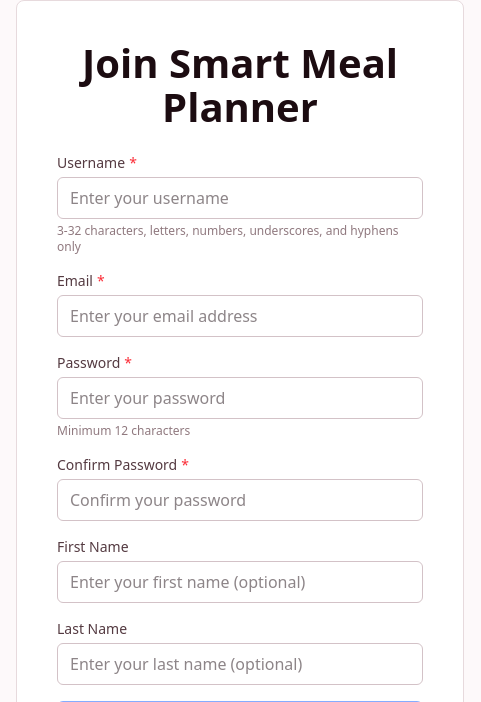
RegisterPage › Validation Tests › validates password - required
Click the password field labelled "Password*": [240, 398] box [57,377,423,419]
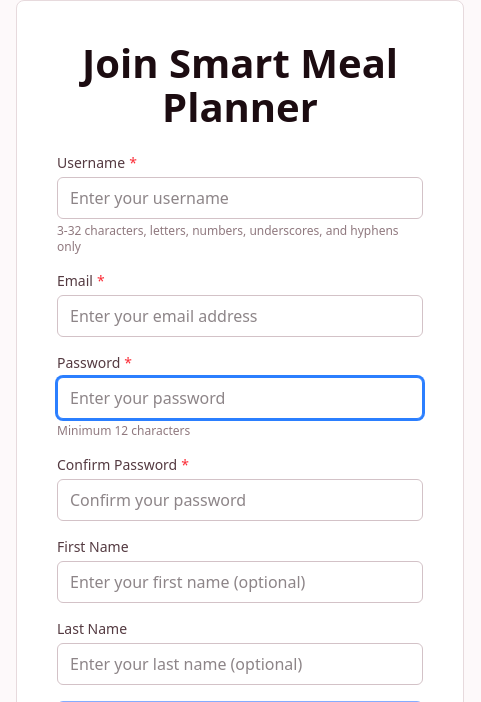
Press Tab
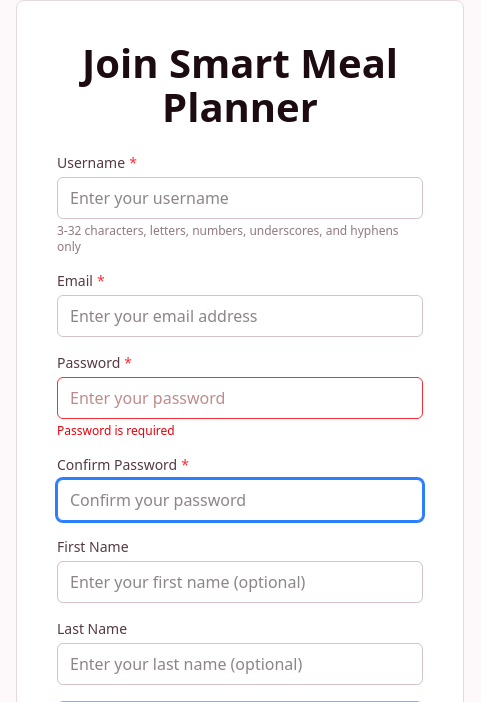
Expected: the text "Password is required" is shown, [57,422,175,439]
